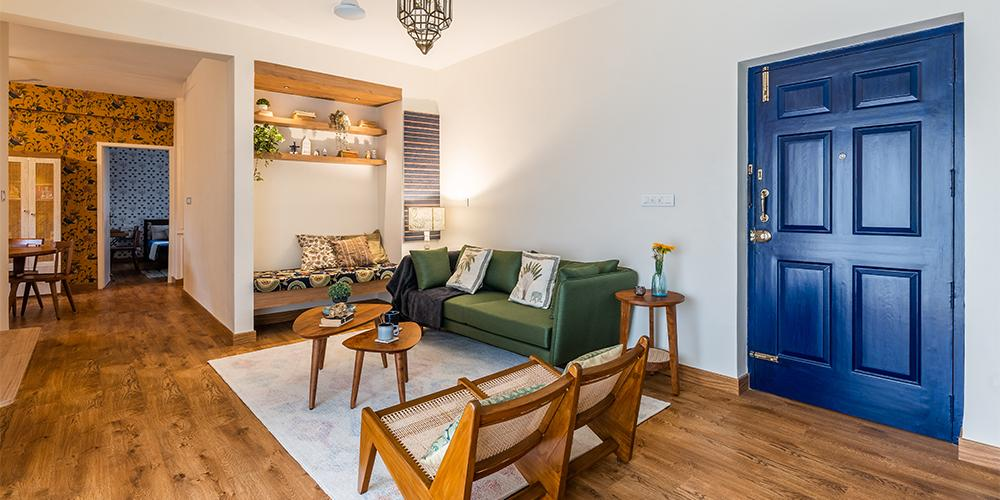chair: (353, 333, 653, 500), (19, 236, 77, 328)
door: (744, 30, 956, 440), (24, 156, 60, 243), (99, 148, 118, 291), (8, 158, 25, 241)
fan: (323, 1, 379, 34)
light: (388, 0, 457, 58), (442, 155, 477, 209), (404, 206, 446, 249)
sofa: (387, 245, 638, 373)
switchboard: (638, 191, 678, 206)
table: (292, 298, 394, 408), (614, 289, 685, 395), (348, 312, 420, 410), (0, 238, 52, 314)
